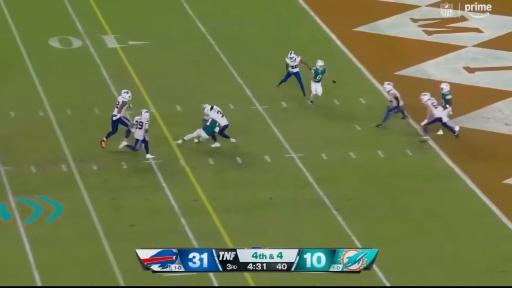Helmet: (121, 90, 131, 100), (420, 93, 431, 102), (383, 82, 393, 91), (141, 109, 150, 119), (203, 104, 212, 114), (288, 51, 296, 61), (440, 83, 450, 91), (316, 60, 324, 68), (288, 51, 295, 58)
Jersey: (209, 106, 228, 126), (425, 98, 445, 117), (134, 116, 148, 139), (113, 96, 129, 115), (387, 88, 403, 106), (202, 119, 217, 136), (286, 56, 300, 73), (313, 68, 326, 82), (441, 90, 452, 104)
Player: (420, 93, 459, 141), (101, 90, 131, 147), (120, 110, 154, 158), (277, 51, 311, 97), (376, 82, 406, 127), (203, 105, 235, 142), (176, 118, 218, 143), (310, 60, 326, 105), (440, 83, 452, 114)
